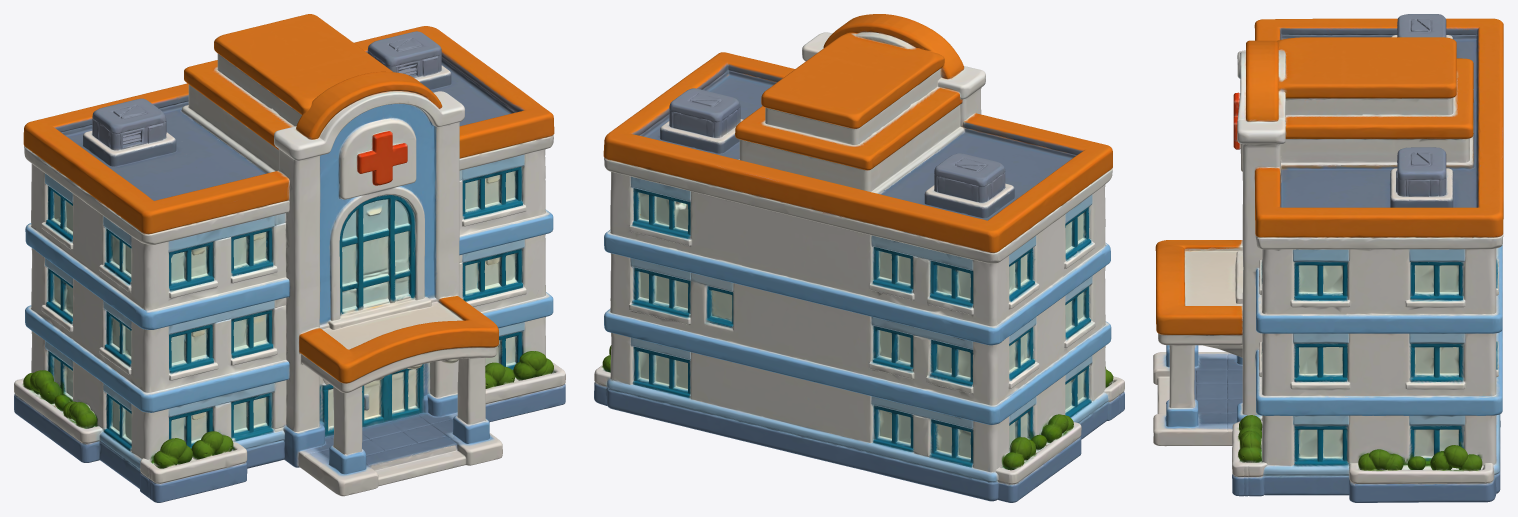
File: Hospital.glb
The picture shows the model from 3 angles, left to right: view 1: azimuth 30°, elevation 25°; view 2: azimuth 150°, elevation 25°; view 3: azimuth 270°, elevation 25°; orthographic projection. The views are drawn at different scales.
Parts seen in each view (by area): view 1: tripo_node_319caac6-5897-477a-b204-8b64e997f07a; view 2: tripo_node_319caac6-5897-477a-b204-8b64e997f07a; view 3: tripo_node_319caac6-5897-477a-b204-8b64e997f07a.
Part boxes in pixels (bbox=[...]): tripo_node_319caac6-5897-477a-b204-8b64e997f07a: bbox=[14, 14, 565, 502]; tripo_node_319caac6-5897-477a-b204-8b64e997f07a: bbox=[594, 14, 1124, 502]; tripo_node_319caac6-5897-477a-b204-8b64e997f07a: bbox=[1153, 14, 1503, 502].
Bounding box in the file's own units: 0.9791 × 0.767 × 0.6798.
1 material, 1 textured.
